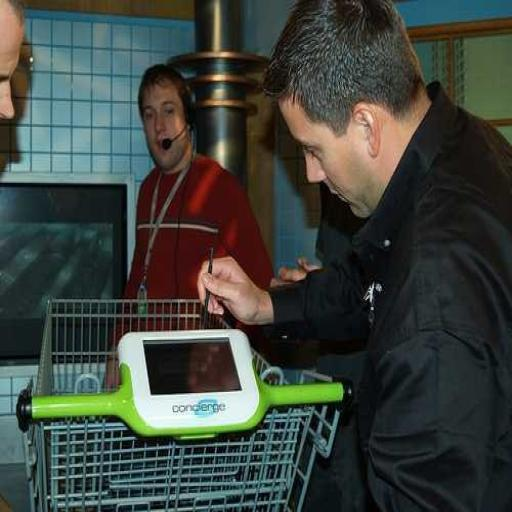shopping_cart: (15, 291, 355, 512)
